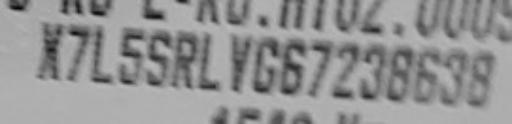letter: (114, 26, 148, 87), (34, 18, 64, 85), (62, 22, 94, 83), (220, 35, 254, 91), (143, 28, 175, 87), (304, 38, 336, 95), (334, 38, 364, 97), (440, 48, 472, 103), (468, 48, 498, 105), (411, 48, 443, 101), (170, 31, 200, 87), (279, 39, 309, 94), (385, 44, 415, 99), (89, 22, 115, 85), (196, 31, 222, 91), (361, 42, 389, 97), (255, 37, 281, 91)
